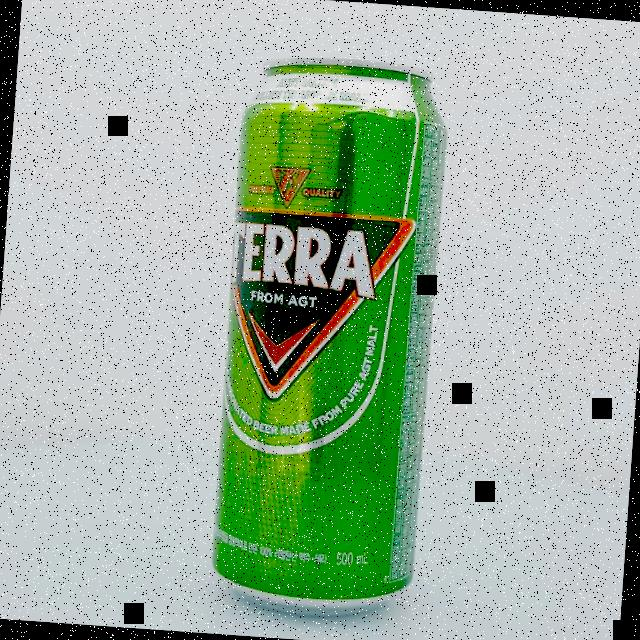can: (206, 49, 452, 622)
